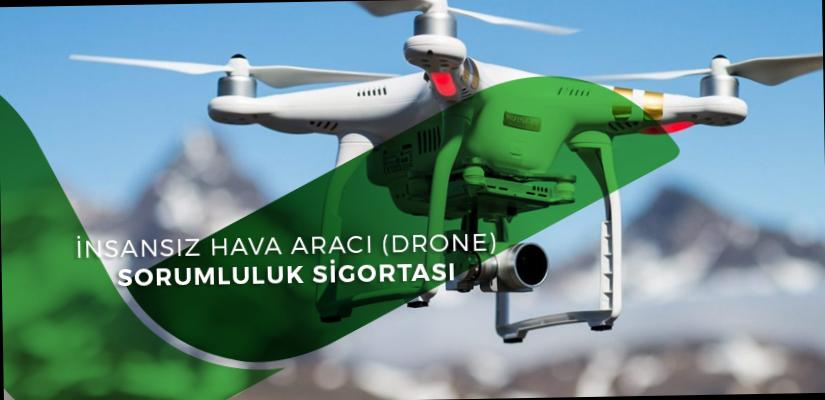drone: (140, 6, 825, 248)
